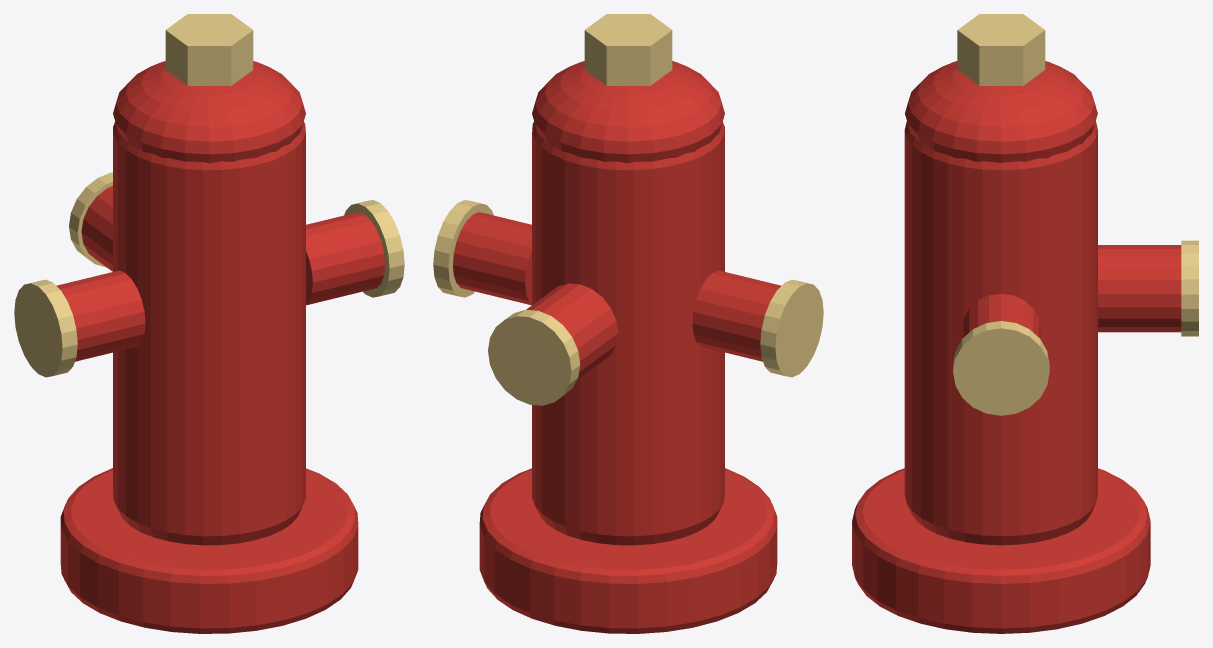
File: fire_hydrant.glb
3 views of the same model, side by side, from view 1: azimuth 30°, elevation 25°; view 2: azimuth 150°, elevation 25°; view 3: azimuth 270°, elevation 25° (orthographic).
Parts seen in each view (by area): view 1: fire_hydrant; view 2: fire_hydrant; view 3: fire_hydrant.
Part boxes in pixels (x1,y1,x2,y2): fire_hydrant: (14,14,404,633); fire_hydrant: (433,14,823,633); fire_hydrant: (852,14,1198,633).
Bounding box in the file's own units: 0.45 × 0.685 × 0.395.
